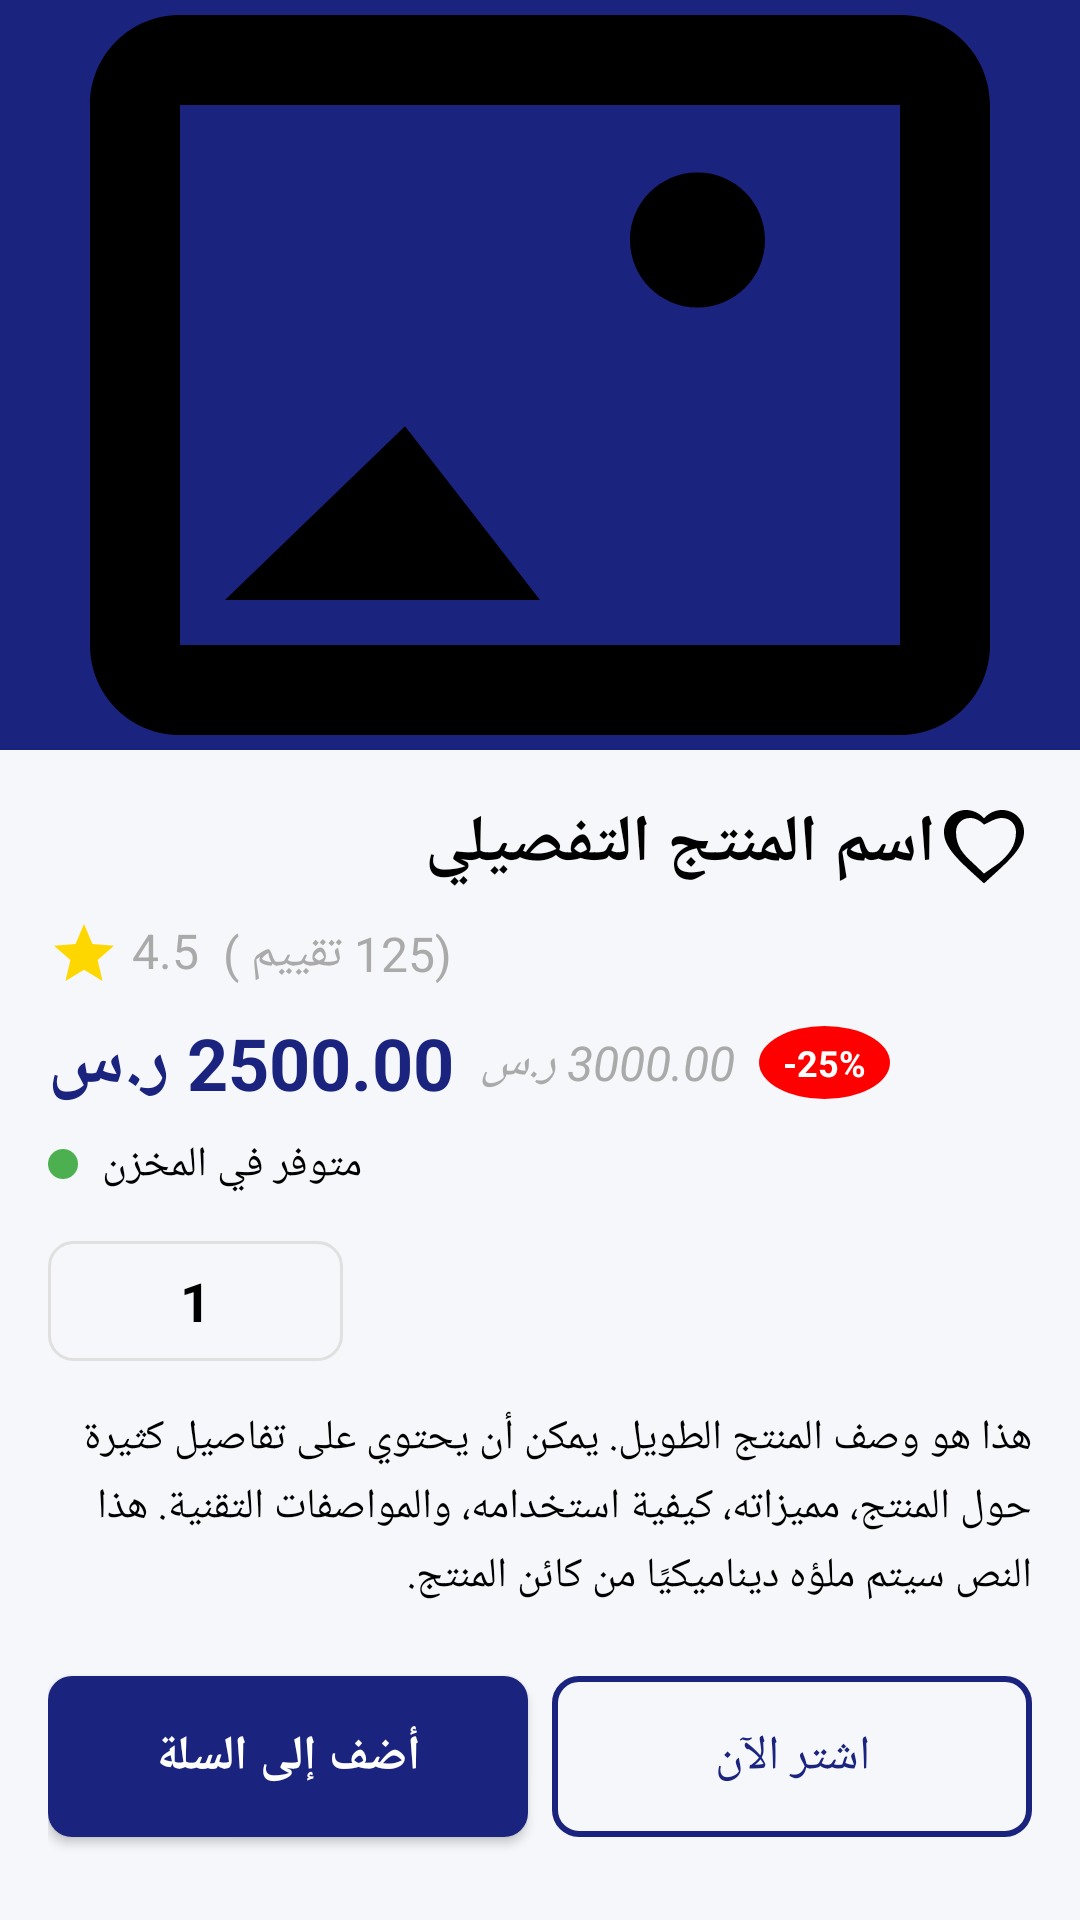

Named icons in this screenshot (1080×1920) and their centers, (x,y):
إضافة للمفضلة: (984,846)
